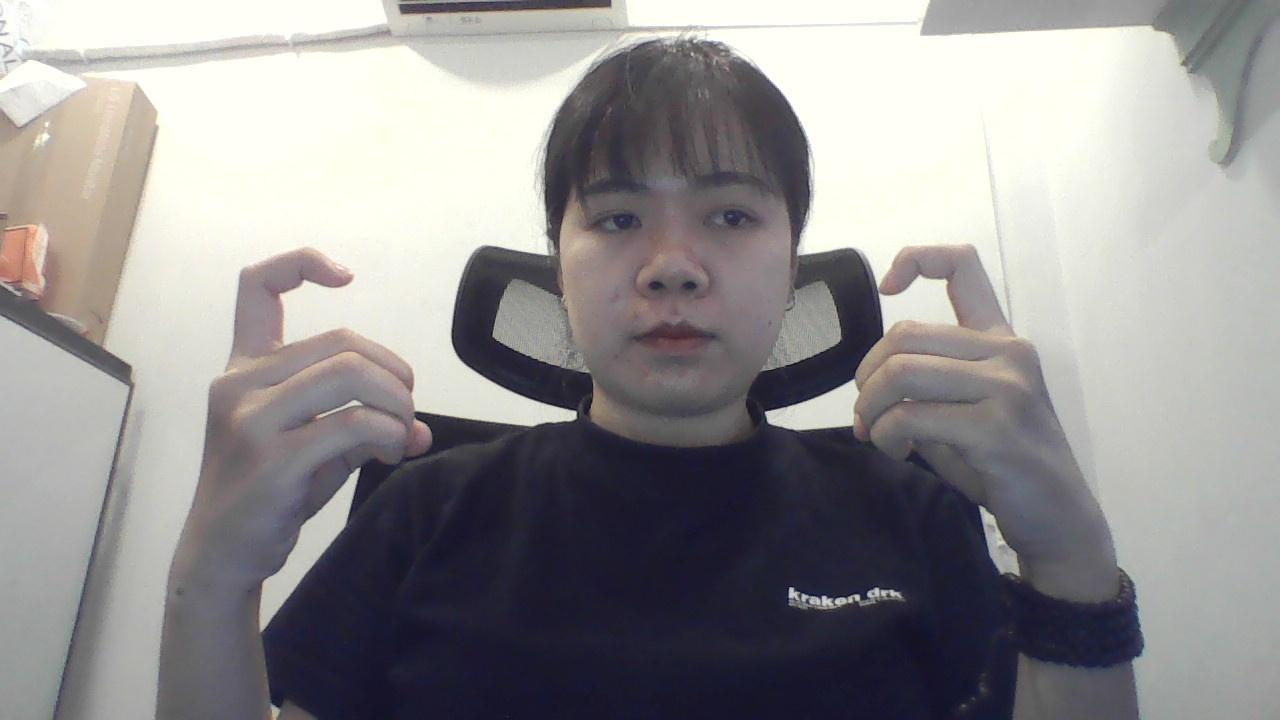D: (819, 193, 1129, 586), (156, 223, 447, 619)
